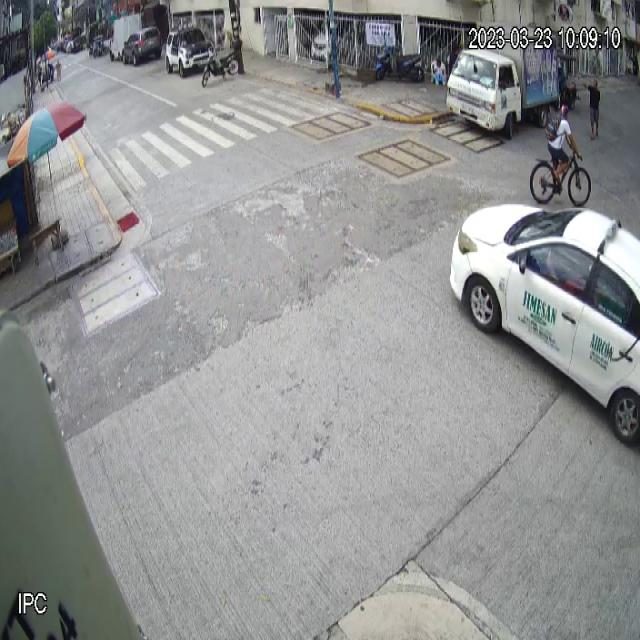Car: (449, 204, 640, 448)
Truck: (446, 37, 560, 139)
